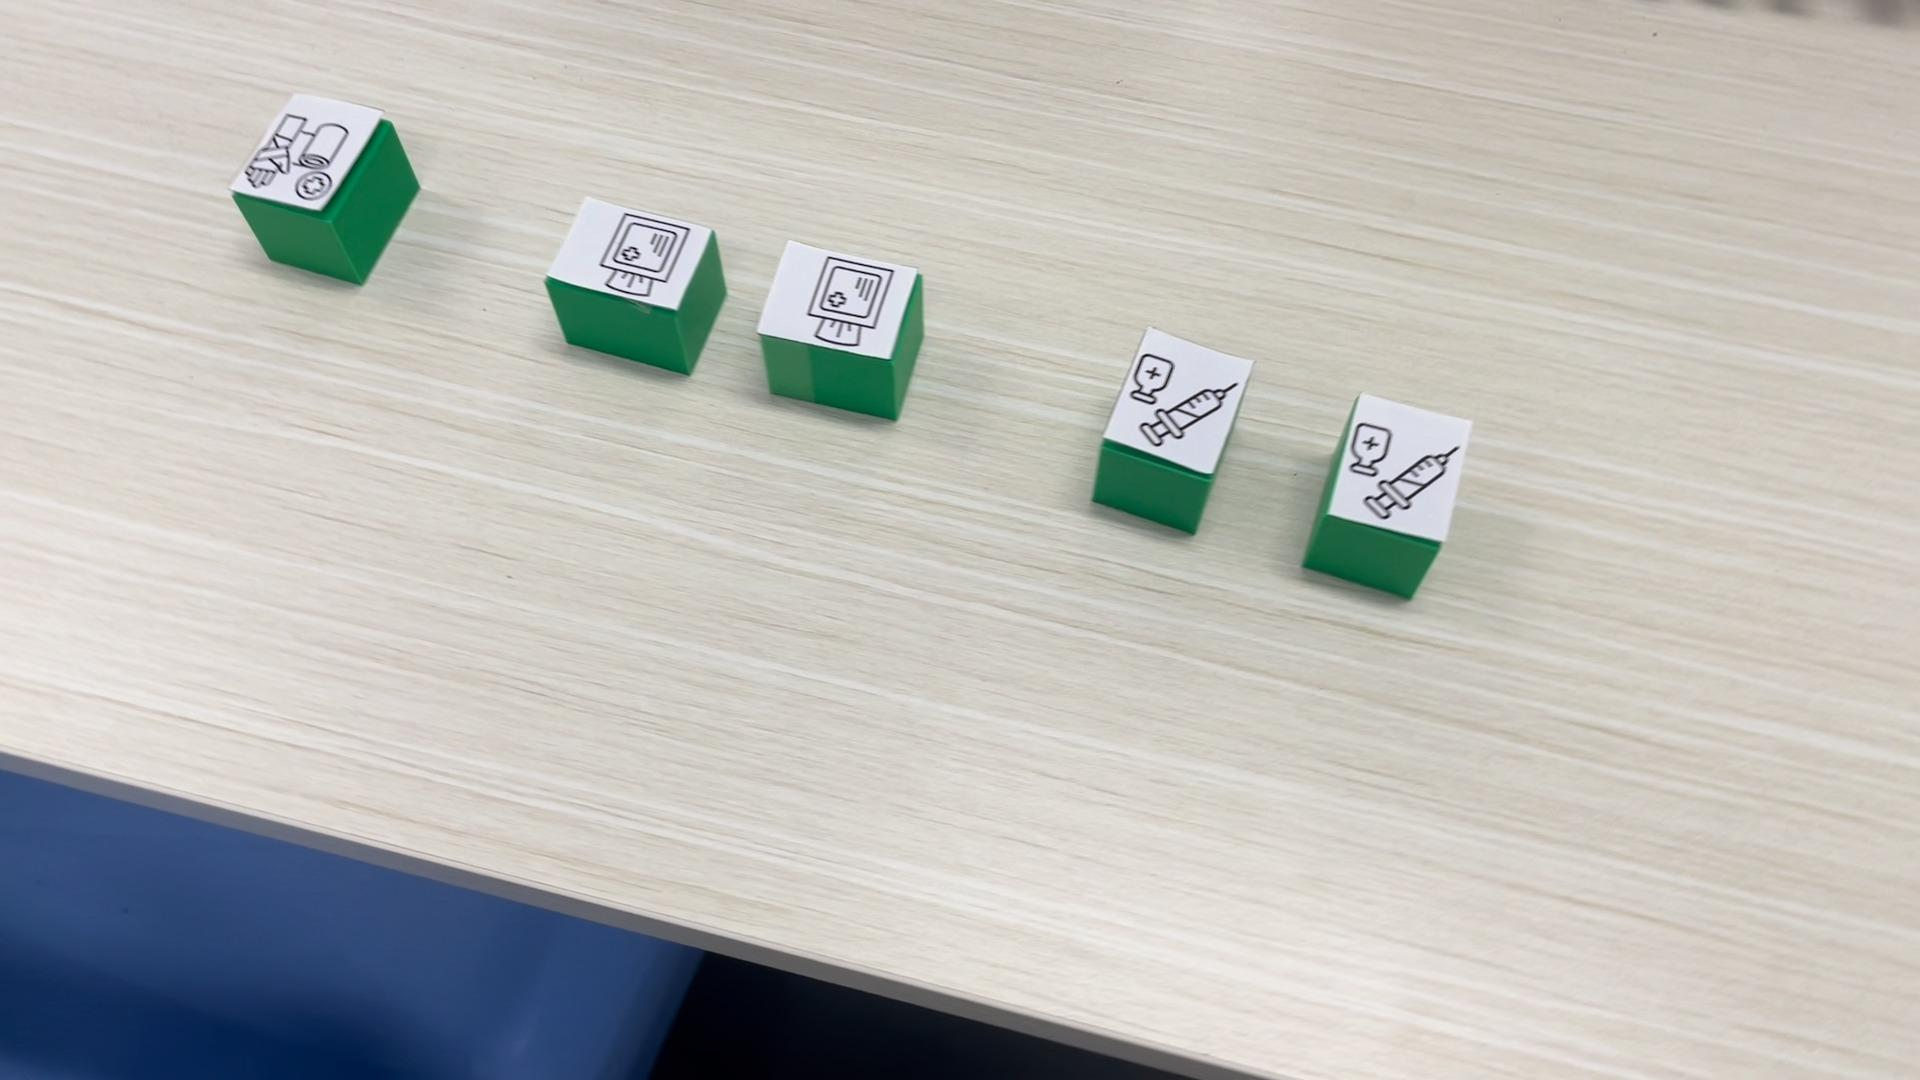Bandages: (229, 90, 421, 284)
Gauze: (545, 194, 724, 375), (756, 239, 923, 421)
antiseptic cream: (1299, 392, 1474, 600), (1091, 324, 1254, 534)
